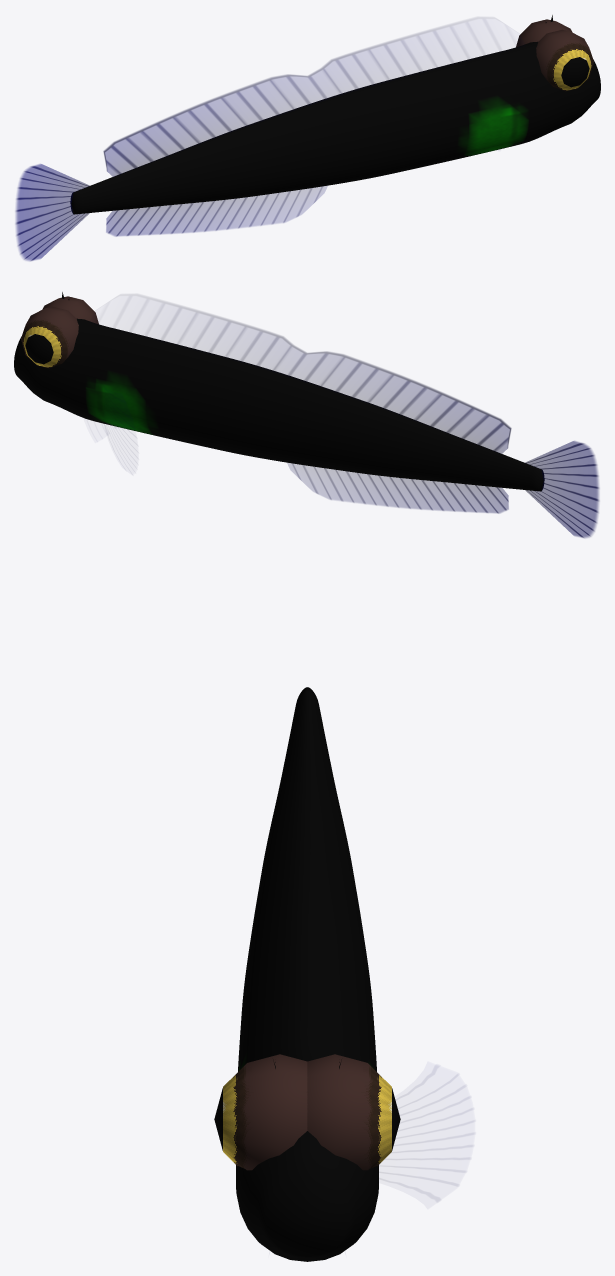
The model's file is tailspot_blenny.glb.
The picture shows the model from 3 angles, top to bottom: view 1: azimuth 30°, elevation 25°; view 2: azimuth 150°, elevation 25°; view 3: azimuth 270°, elevation 25°; orthographic projection. The views are drawn at different scales.
Visible parts, largest first — view 1: Body, FinDorsal, FinAnal, FinCaudal, EyeR, EyeL; view 2: Body, FinDorsal, FinAnal, FinCaudal, EyeL, EyeR; view 3: Body, EyeL, EyeR.
Boxes of the visible parts, x1,y1,x2,y2 form: Body: [70, 15, 600, 214]; FinDorsal: [103, 21, 485, 176]; FinAnal: [106, 186, 327, 236]; FinCaudal: [15, 164, 89, 261]; EyeR: [536, 29, 593, 91]; EyeL: [516, 19, 572, 47]; Body: [14, 292, 544, 491]; FinDorsal: [129, 298, 511, 453]; FinAnal: [287, 463, 508, 513]; FinCaudal: [525, 441, 599, 538]; EyeL: [21, 306, 78, 368]; EyeR: [42, 296, 98, 324]; Body: [236, 687, 378, 1261]; EyeL: [307, 1054, 400, 1170]; EyeR: [214, 1054, 307, 1170].
Size of the model in its own units: 1 by 0.2651 by 0.2528.
Materials: 4 (3 with a texture image).
